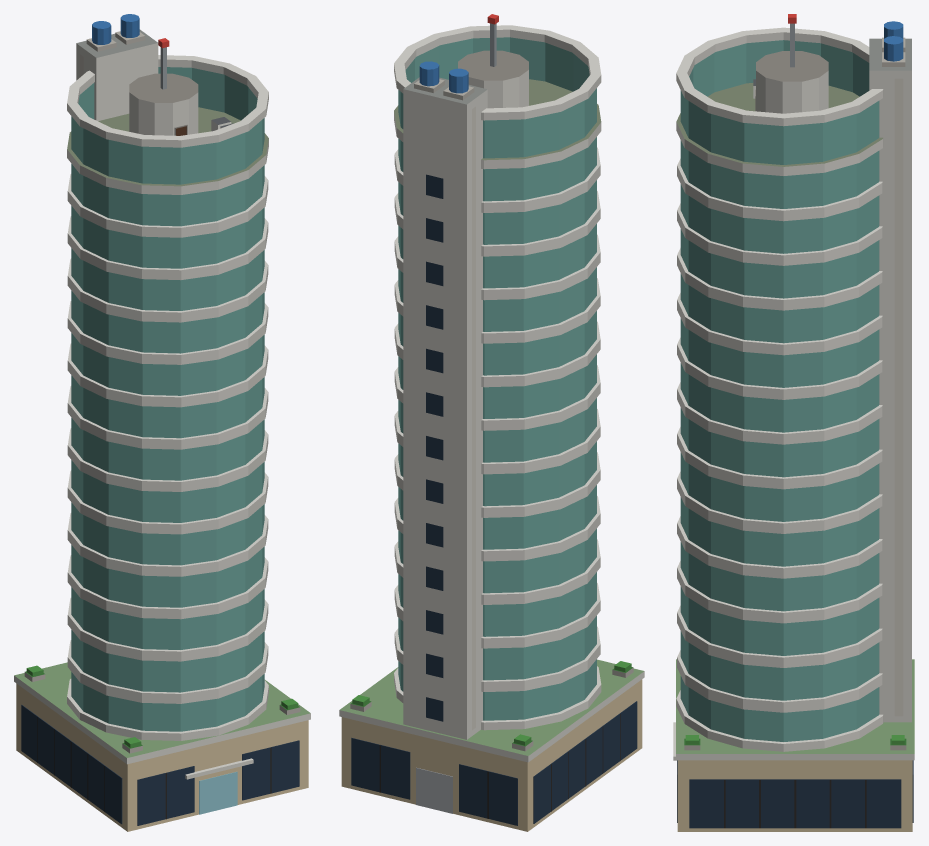
File: gedung_05.glb
3 views of the same model, side by side, from view 1: azimuth 30°, elevation 25°; view 2: azimuth 150°, elevation 25°; view 3: azimuth 270°, elevation 25° (orthographic). The views are drawn at different scales.
Visible parts, largest first — view 1: gedung_05; view 2: gedung_05; view 3: gedung_05.
Part boxes in pixels (bbox=[...]): gedung_05: bbox=[14, 14, 310, 831]; gedung_05: bbox=[339, 14, 644, 831]; gedung_05: bbox=[673, 14, 914, 831].
Size of the model in its own units: 15.44 by 58.55 by 16.62.
